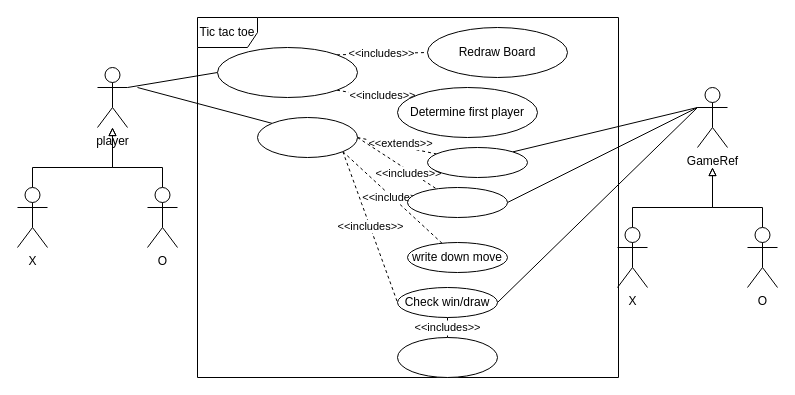
Image size: 795x395. Some labels were removed from this diagram. The centre of each missing label's shape, as x and y in pixels:
Acknowledge Winner/Draw: point (447, 357)
check valid move: point (457, 202)
Game initialisation: point (287, 72)
Make move: point (307, 137)
toggle player: point (477, 162)
